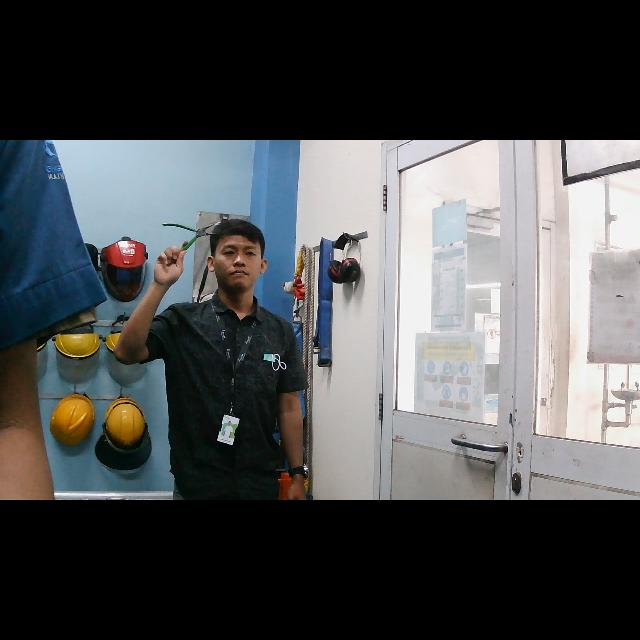tang_scun_hidrolik: (160, 220, 222, 258)
